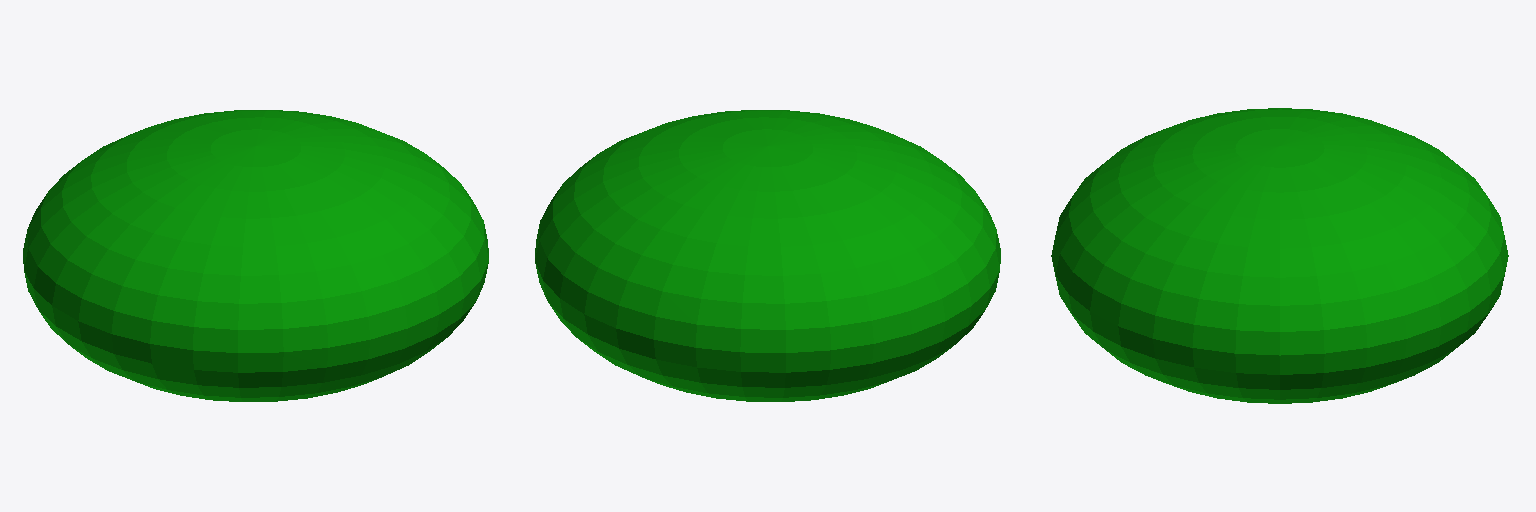
Rendered from moya_microwave_g.obj.
3 views of the same model, side by side, from view 1: azimuth 30°, elevation 25°; view 2: azimuth 150°, elevation 25°; view 3: azimuth 270°, elevation 25° (orthographic).
Visible parts, largest first — view 1: Sphere_Sphere.005_Sphere_Sphere.009; view 2: Sphere_Sphere.005_Sphere_Sphere.009; view 3: Sphere_Sphere.005_Sphere_Sphere.009.
Part boxes in pixels (x1,y1,x2,y2): Sphere_Sphere.005_Sphere_Sphere.009: (23,110,488,401); Sphere_Sphere.005_Sphere_Sphere.009: (535,110,1000,401); Sphere_Sphere.005_Sphere_Sphere.009: (1051,108,1508,403).
Size of the model in its own units: 0.4594 by 0.2363 by 0.4463.